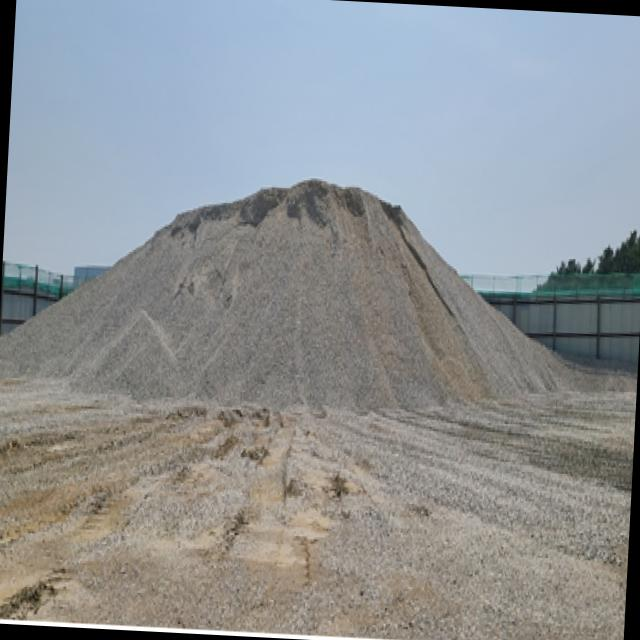white-sand: (0, 180, 638, 640)
